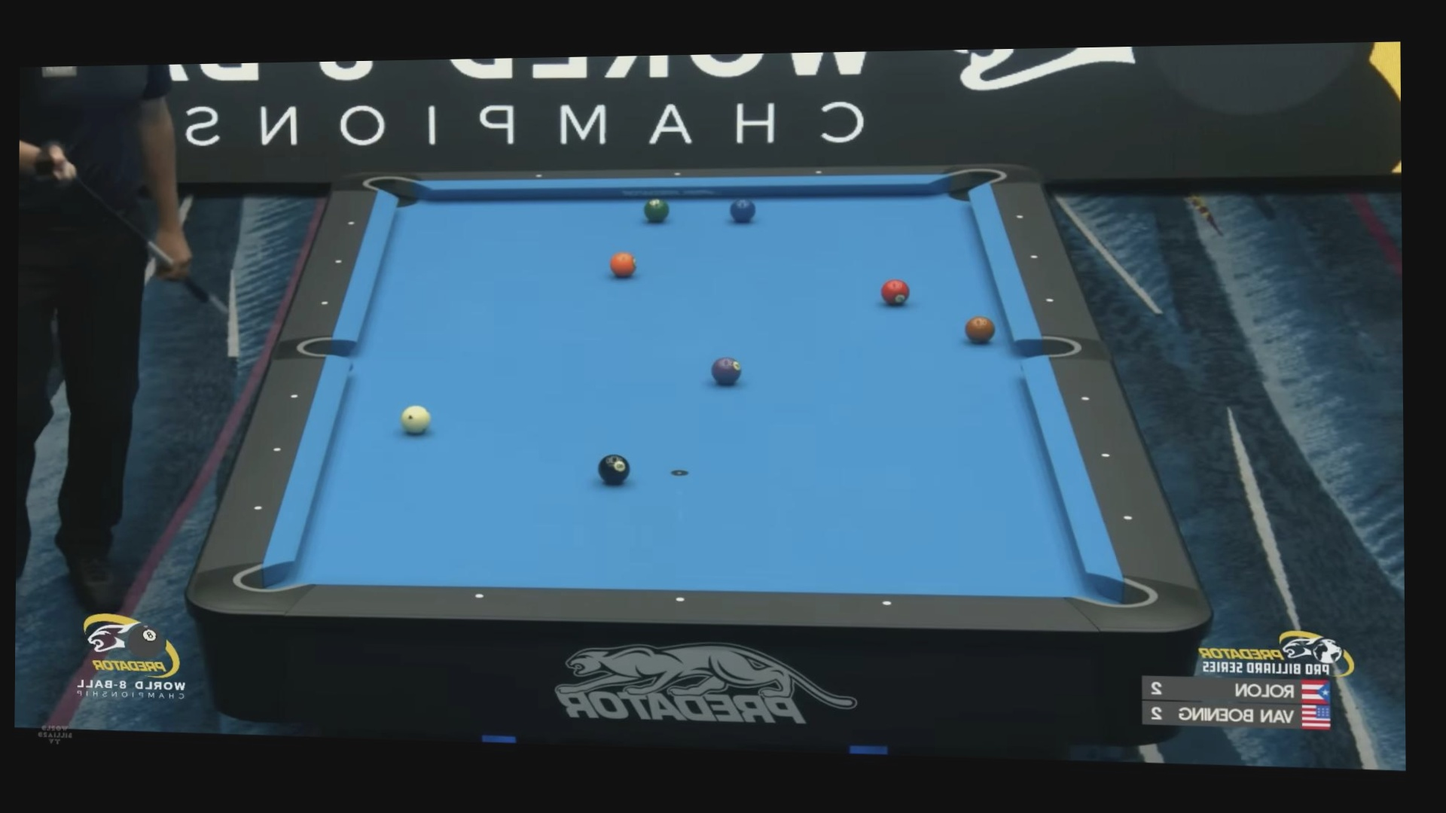Black: (597, 453, 631, 485)
Cue: (400, 404, 433, 434)
Solid: (673, 594, 686, 606), (881, 598, 894, 609), (288, 391, 301, 402), (473, 590, 485, 601), (252, 503, 264, 513), (272, 445, 284, 455), (1123, 513, 1134, 522), (1099, 451, 1110, 460), (1080, 395, 1091, 404), (1015, 212, 1024, 221), (320, 299, 330, 307), (1045, 296, 1054, 304), (1029, 252, 1038, 260), (334, 258, 343, 266), (347, 219, 356, 227), (814, 168, 823, 176), (673, 170, 682, 178), (535, 172, 543, 179)
Striped: (711, 356, 741, 385), (965, 316, 995, 343), (881, 278, 910, 305), (609, 251, 637, 278), (643, 197, 670, 222), (730, 199, 756, 222)
